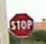stop: (7, 12, 34, 37)
